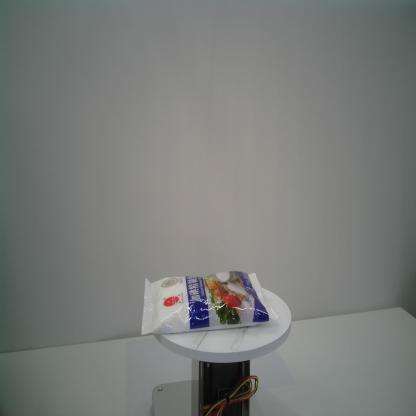Seasoner: (138, 268, 280, 336)
